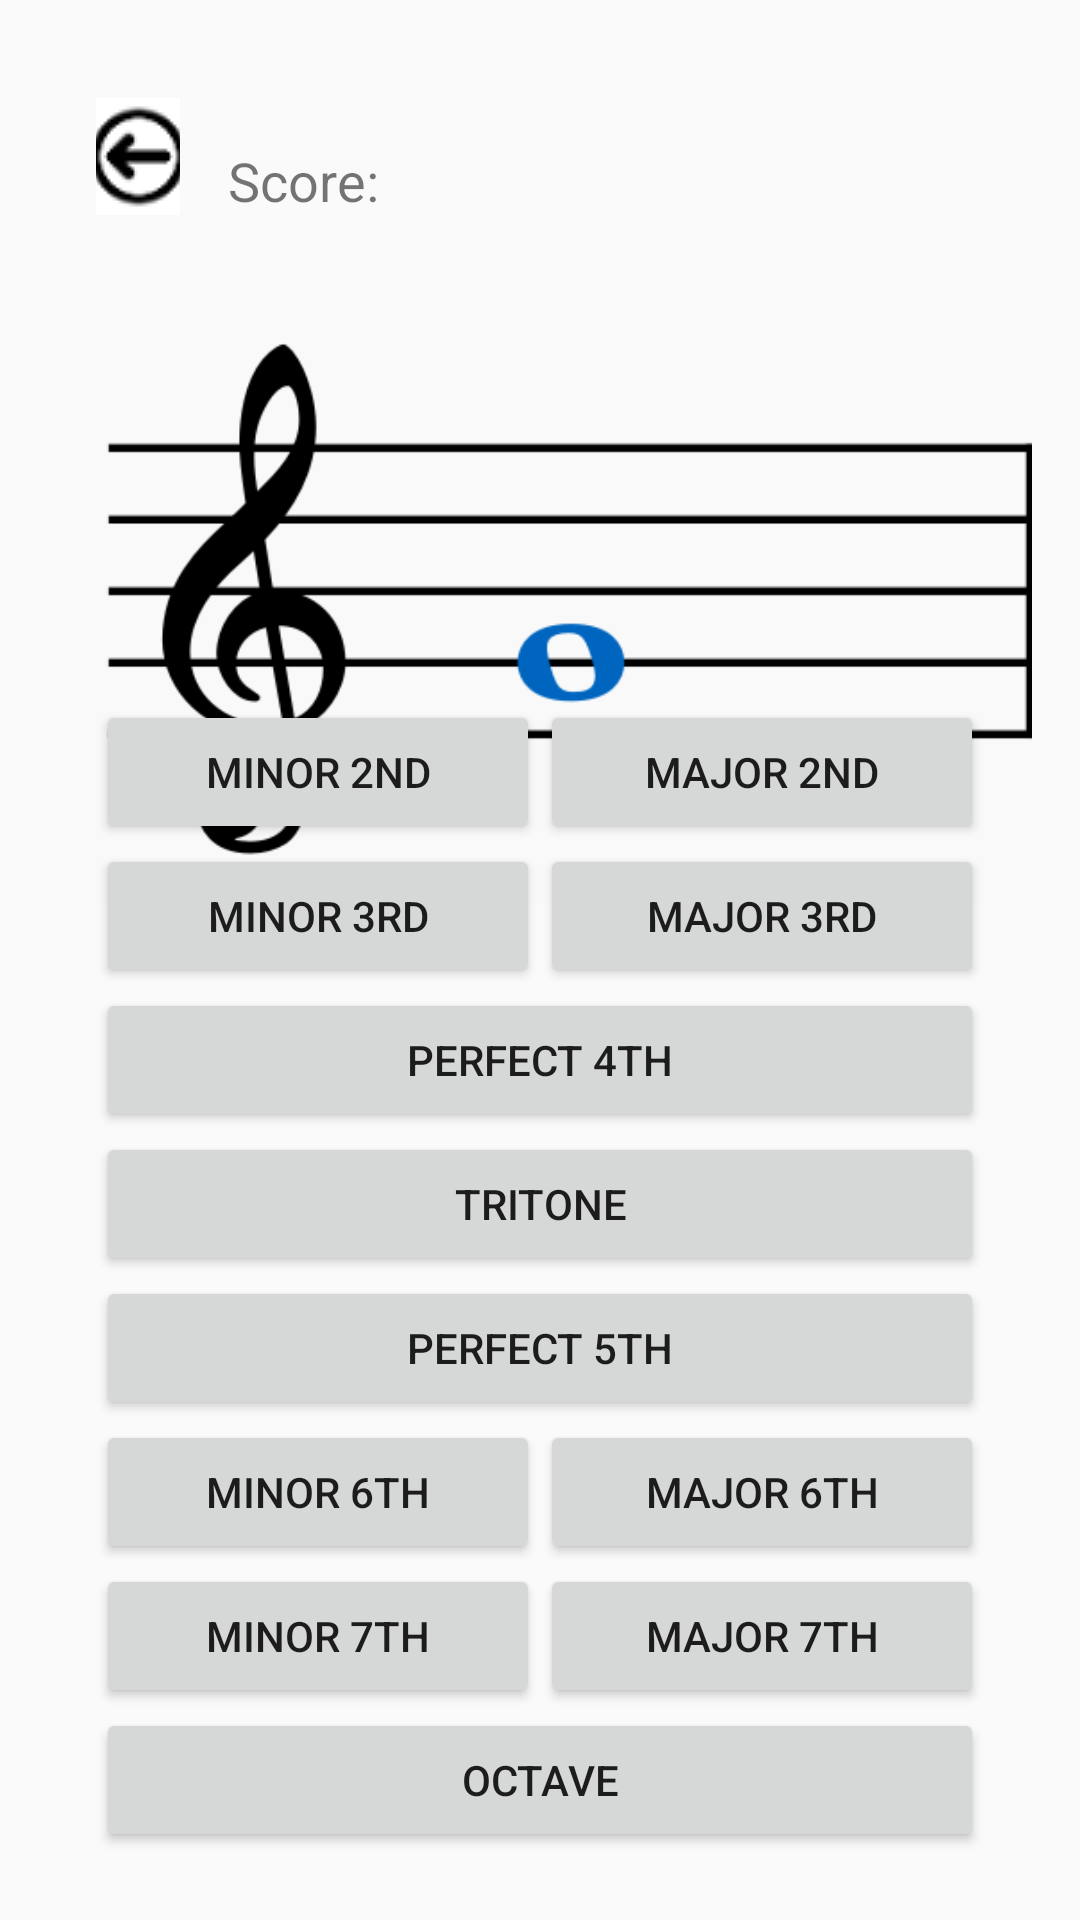

Point at icon controls on the screen. Image size 1080 × 1920, points as (x,y).
back: (138,156)
